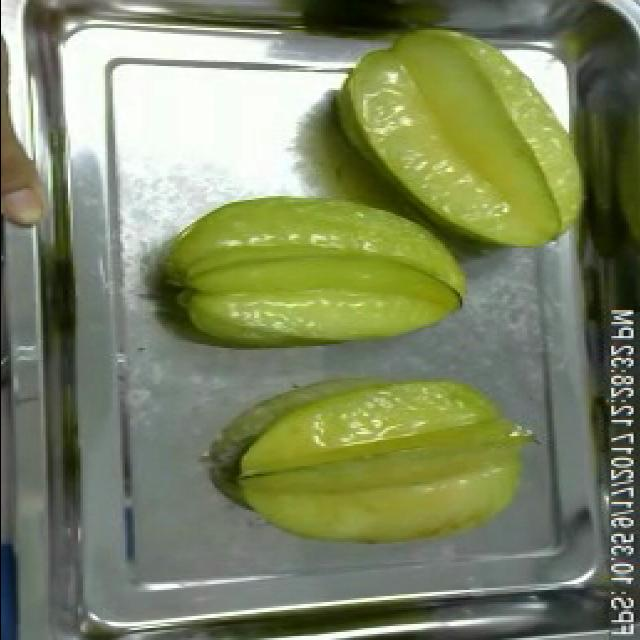fruit: (335, 12, 598, 266), (218, 370, 544, 564), (161, 184, 479, 364)
